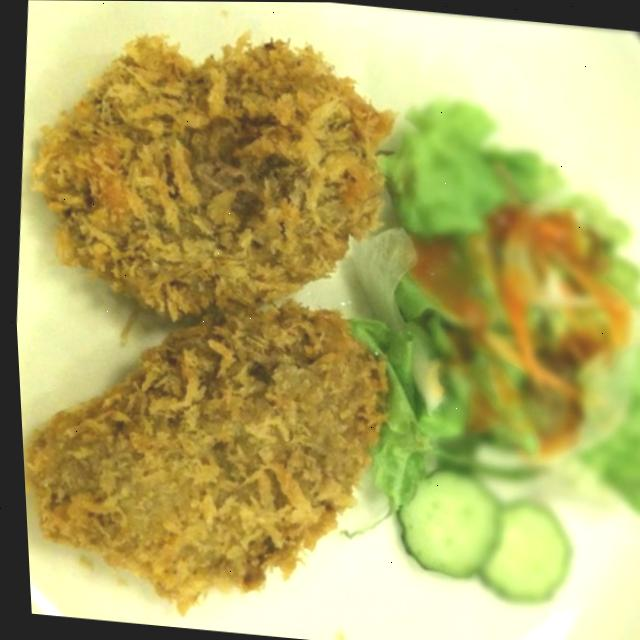炸货点心: (0, 0, 483, 640)
